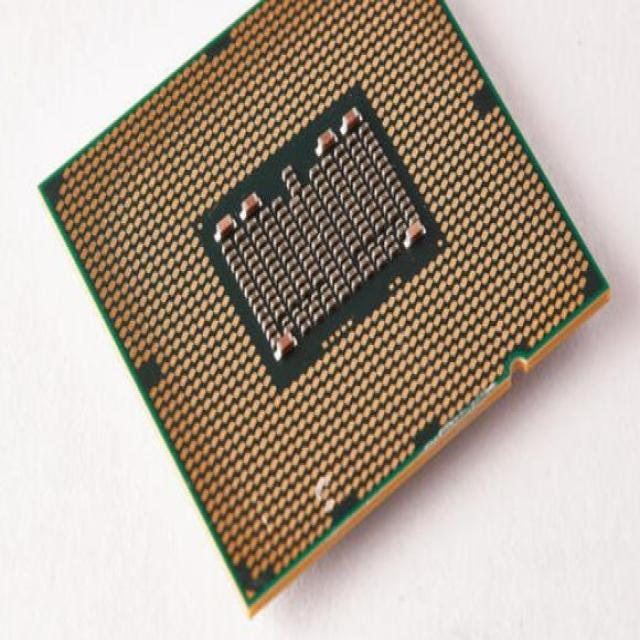electronic: (36, 0, 612, 618)
